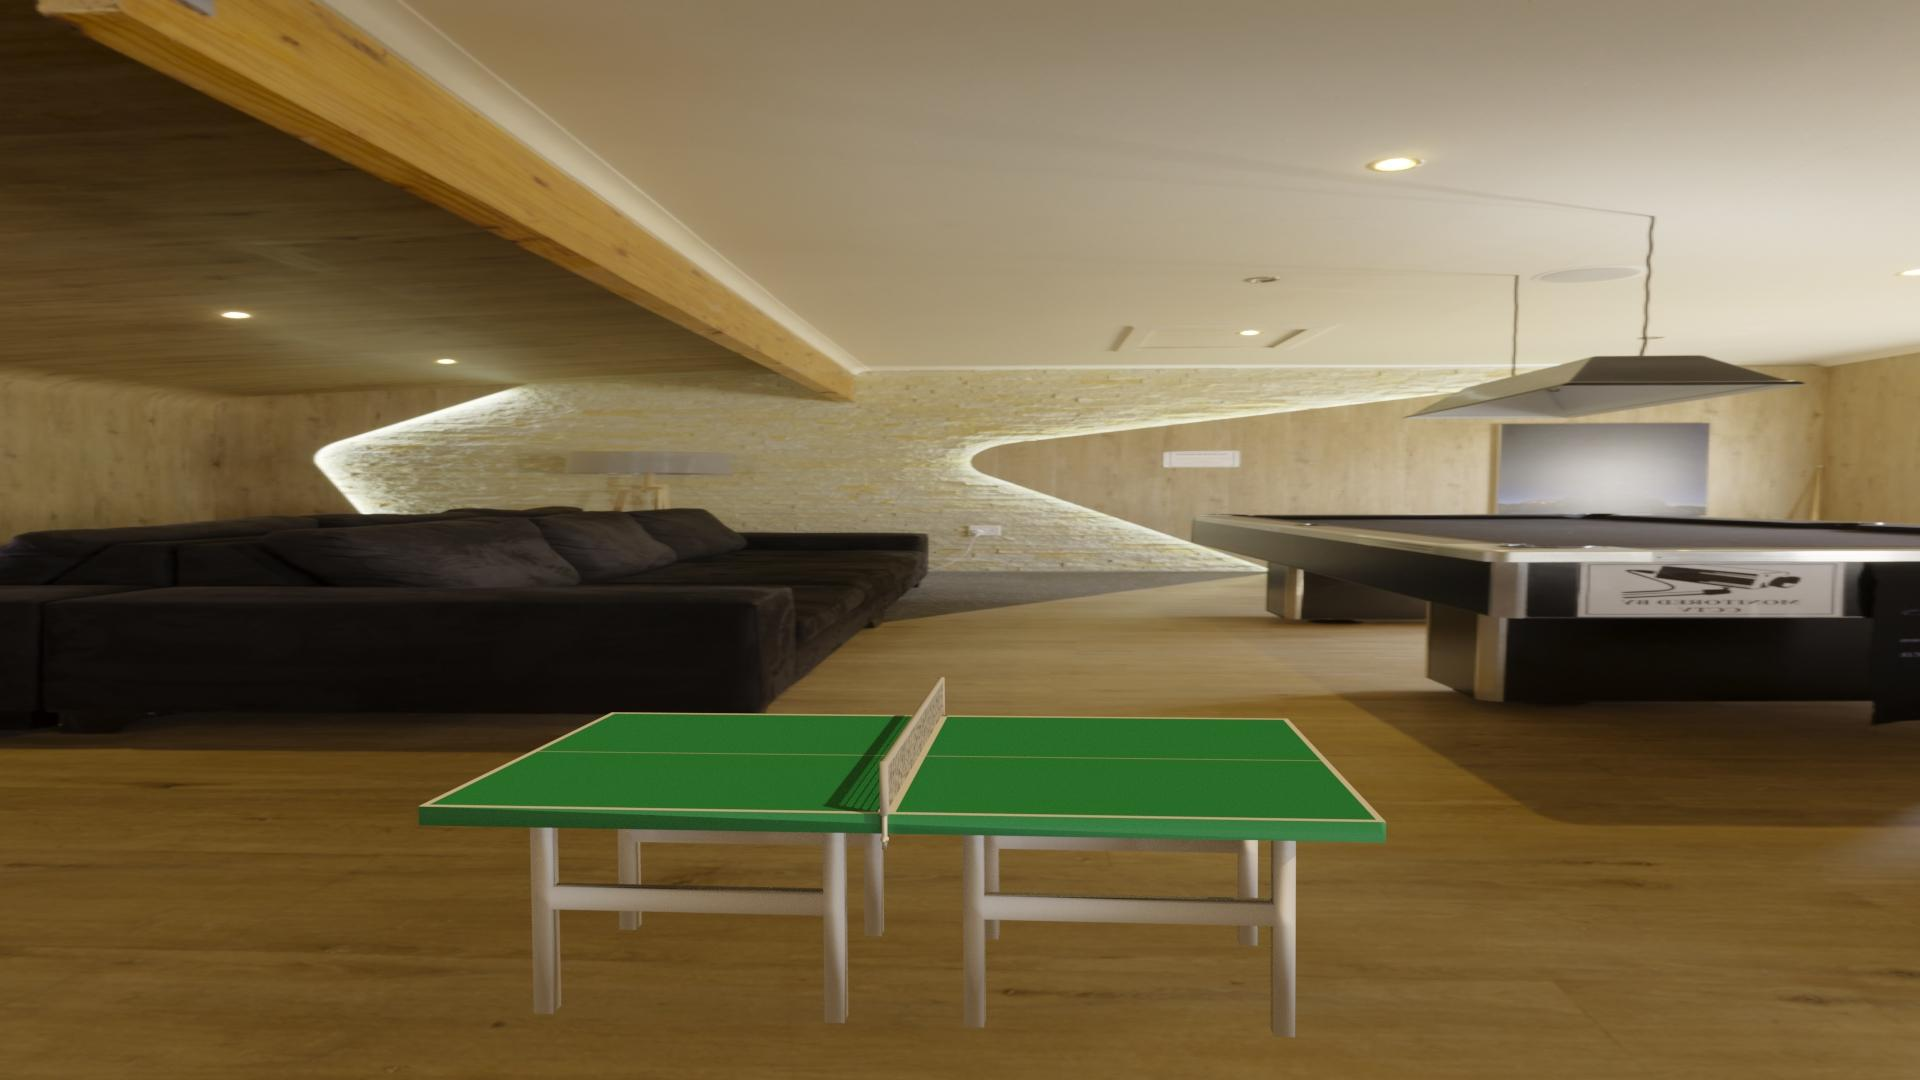table: (429, 713, 1377, 820)
